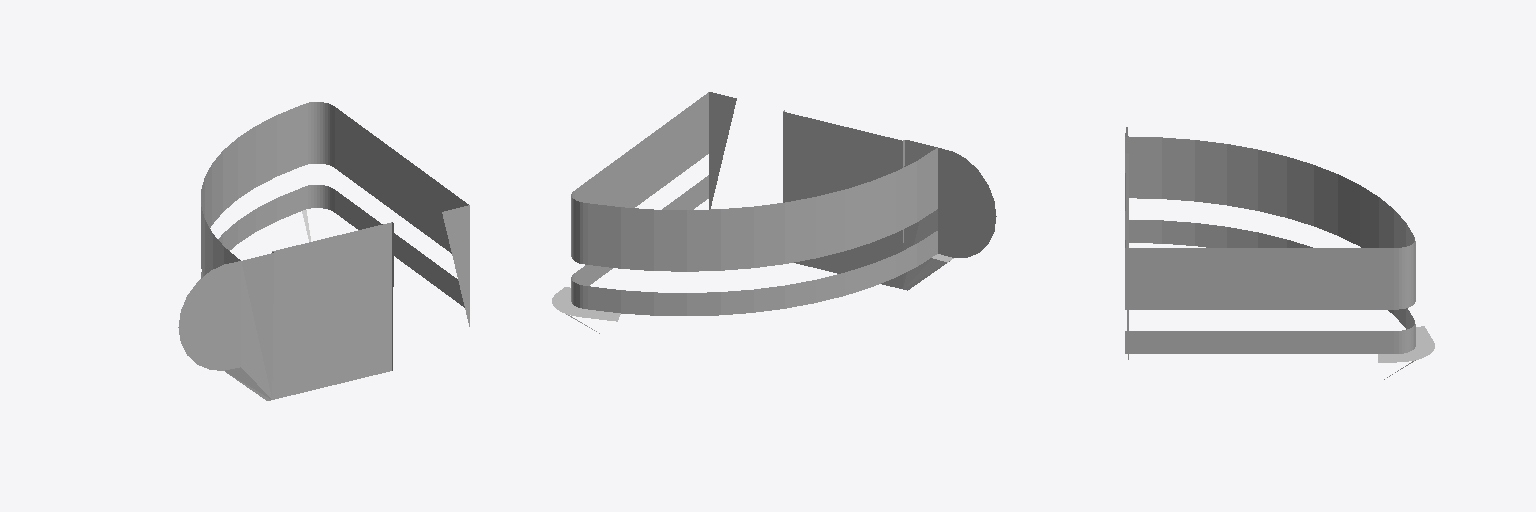
File: original-6.obj
The picture shows the model from 3 angles: view 1: azimuth 30°, elevation 25°; view 2: azimuth 150°, elevation 25°; view 3: azimuth 270°, elevation 25°; orthographic projection.
Visible parts, largest first — view 1: #ID5; view 2: #ID5; view 3: #ID5.
Boxes of the visible parts, x1,y1,x2,y2 form: #ID5: [178, 102, 469, 400]; #ID5: [552, 92, 996, 333]; #ID5: [1125, 127, 1434, 379].
Size of the model in its own units: 0.22 by 0.1021 by 0.193.